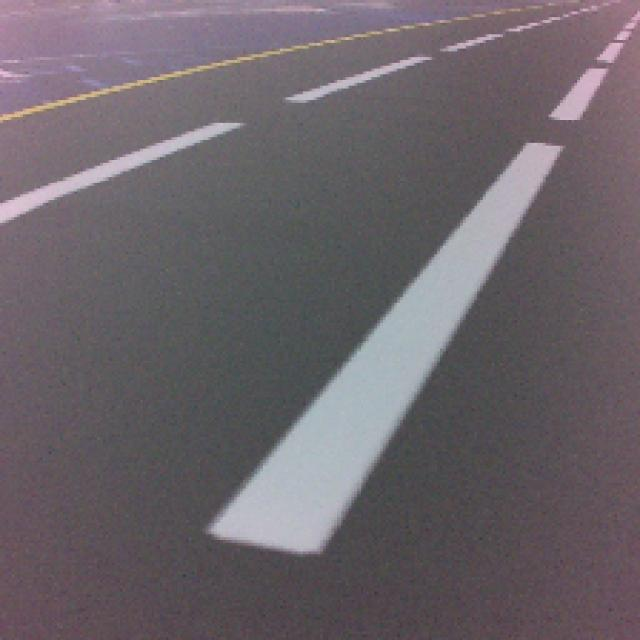Guard rail: (207, 146, 561, 556)
